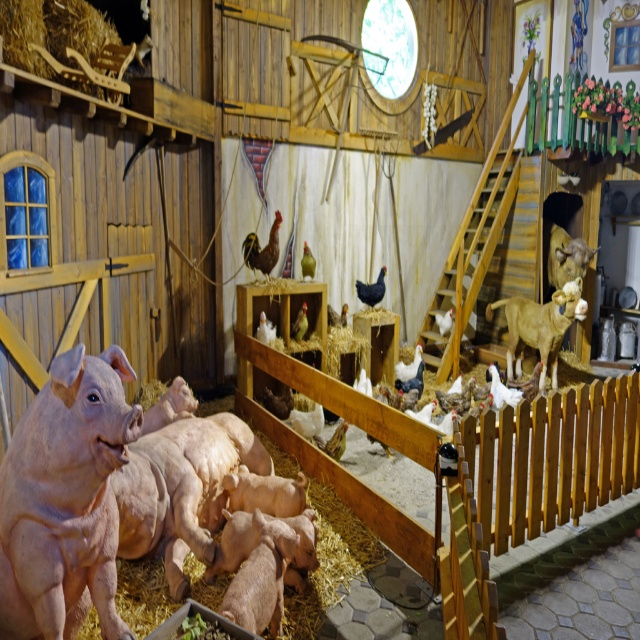Pig: (0, 344, 324, 639)
